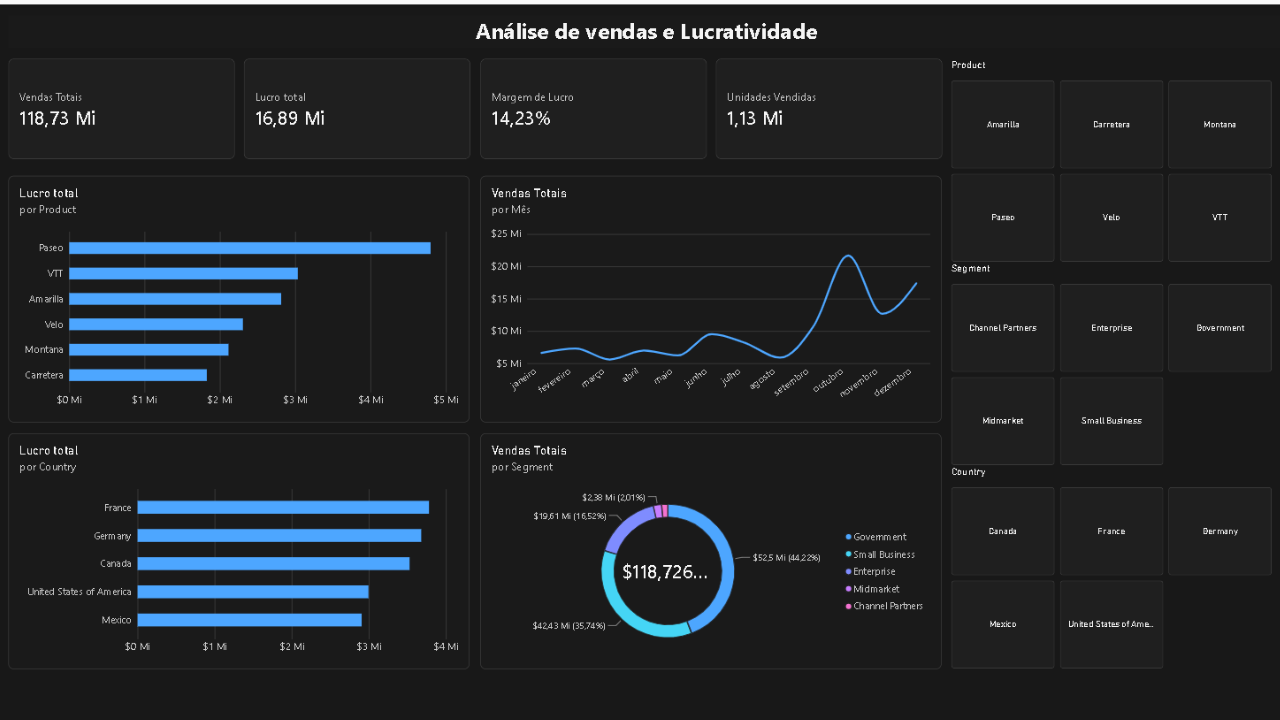

The dashboard page shown, as its layout file describes it:
{"tool":"powerbi","page":{"name":"Página 1","canvas":[1920,1080],"ordinal":0},"visuals":[{"type":"textbox","box":[16,16,1904,48],"z":0},{"type":"cardVisual","fields":{"Data":["financials.Vendas Totais"]},"box":[16,80,338.5,150.3],"z":1000},{"type":"cardVisual","fields":{"Data":["financials.Lucro total"]},"box":[368,80,338.5,150.3],"z":2000},{"type":"cardVisual","fields":{"Data":["financials.Margem de Lucro"]},"box":[720,80,338.5,150.3],"z":3000},{"type":"cardVisual","fields":{"Data":["financials.Unidades Vendidas"]},"box":[1072,80,338.5,150.3],"z":4000},{"type":"lineChart","fields":{"Category":["financials.Date.Variação.Hierarquia de datas.Ano","financials.Date.Variação.Hierarquia de datas.Trimestre","financials.Date.Variação.Hierarquia de datas.Mês","financials.Date.Variação.Hierarquia de datas.Dia"],"Y":["financials.Vendas Totais"]},"box":[720,256,688,368],"z":5000},{"type":"clusteredBarChart","fields":{"Category":["financials.Product"],"Y":["financials.Lucro total"]},"box":[16,256,688,368],"z":6000},{"type":"donutChart","fields":{"Category":["financials.Segment"],"Y":["financials.Vendas Totais"]},"box":[720,640,688,352],"z":7000},{"type":"clusteredBarChart","fields":{"Category":["financials.Country"],"Y":["financials.Lucro total"]},"box":[16,640,688,352],"z":8000},{"type":"advancedSlicerVisual","fields":{"Values":["financials.Country"]},"box":[1424,688,480,304],"z":9000},{"type":"advancedSlicerVisual","fields":{"Values":["financials.Segment"]},"box":[1424,384,480,304],"z":10000},{"type":"advancedSlicerVisual","fields":{"Values":["financials.Product"]},"box":[1424,80,480,304],"z":11000}]}

Visuals, with their boxes in screenshot pixels (x1, y1, x2, y2), scaled from the page's 1920x1080 canvas onto the 1280x720 screenshot:
textbox: rect(11, 11, 1279, 43)
cardVisual - financials.Vendas Totais: rect(11, 53, 236, 154)
cardVisual - financials.Lucro total: rect(245, 53, 471, 154)
cardVisual - financials.Margem de Lucro: rect(480, 53, 706, 154)
cardVisual - financials.Unidades Vendidas: rect(715, 53, 940, 154)
lineChart - financials.Date.Variação.Hierarquia de datas.Ano x financials.Date.Variação.Hierarquia de datas.Trimestre: rect(480, 171, 939, 416)
clusteredBarChart - financials.Product x financials.Lucro total: rect(11, 171, 469, 416)
donutChart - financials.Segment x financials.Vendas Totais: rect(480, 427, 939, 661)
clusteredBarChart - financials.Country x financials.Lucro total: rect(11, 427, 469, 661)
advancedSlicerVisual - financials.Country: rect(949, 459, 1269, 661)
advancedSlicerVisual - financials.Segment: rect(949, 256, 1269, 459)
advancedSlicerVisual - financials.Product: rect(949, 53, 1269, 256)
